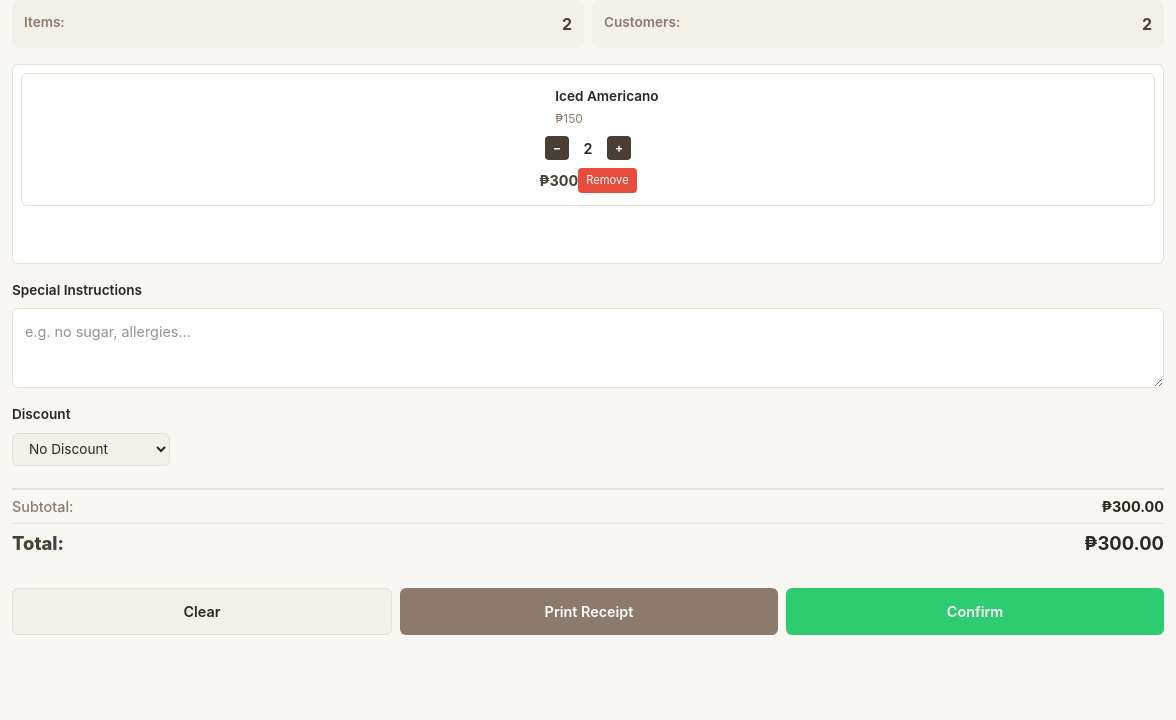
it: OrderDetails › discount selection › should show discount value input when percentage is selected
The image size is (1176, 720).
Select "Percentage (%)" in the dropdown with test id "discount-type-select". click: point(91, 449)
box: [12, 433, 170, 466]
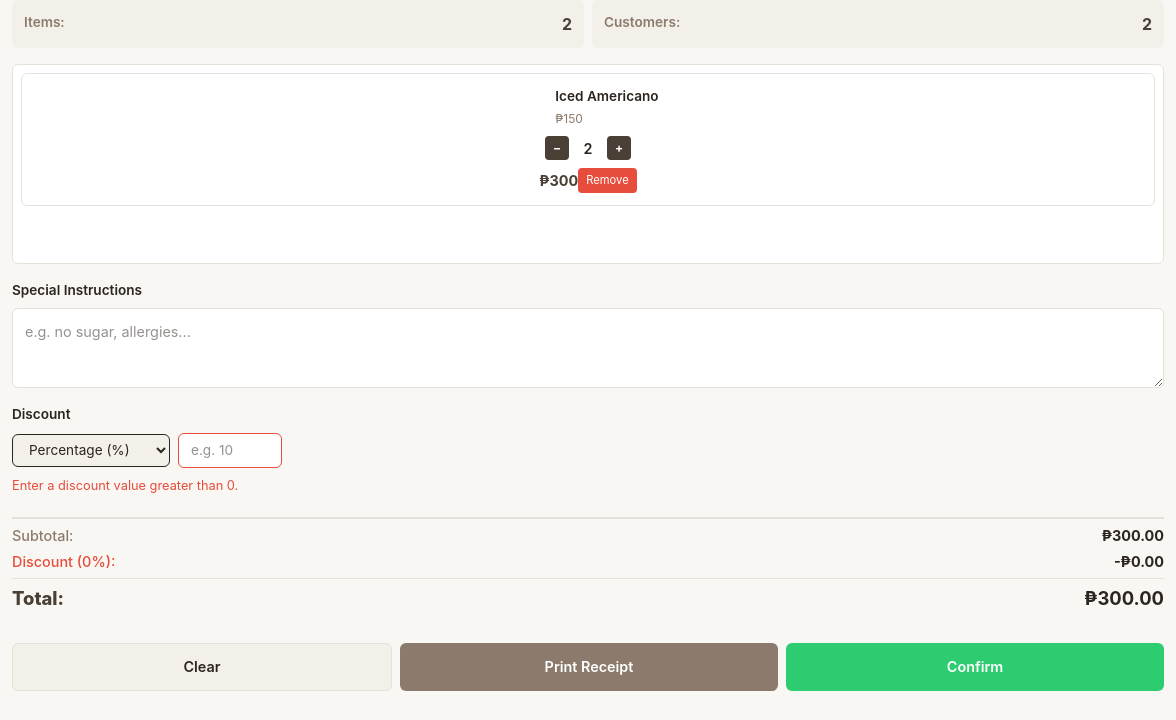
Now the number field with test id "discount-value-input" is shown, box [178, 433, 282, 468]
